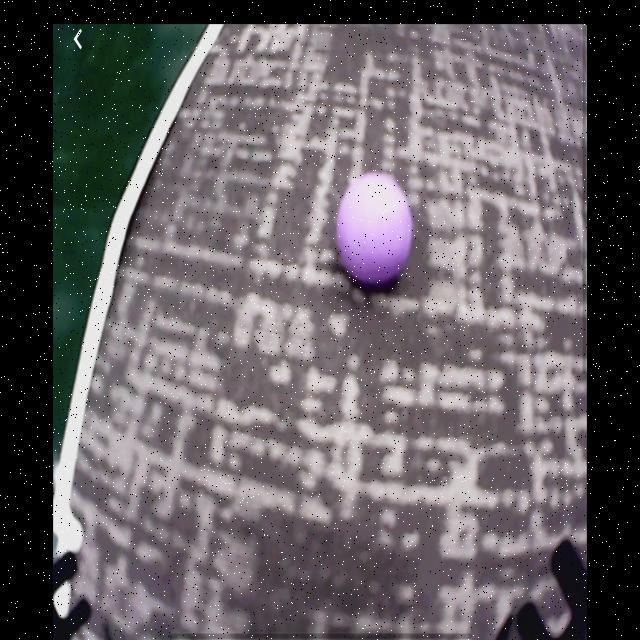ball: (337, 172, 414, 284)
